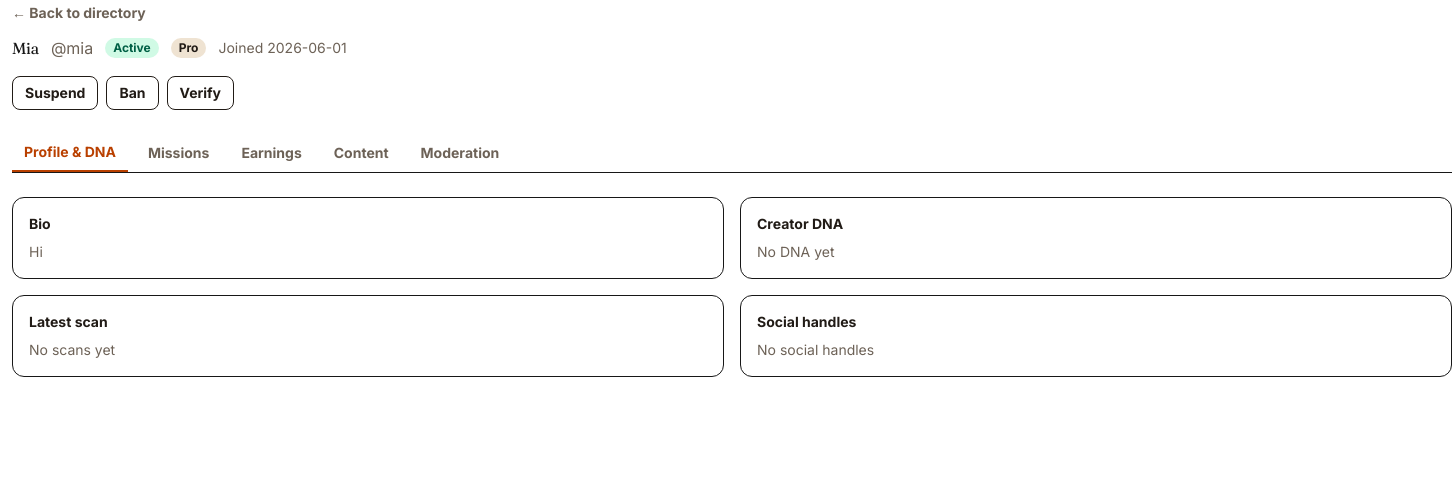
Test: CreatorDetailView › surfaces an action failure instead of refreshing
The image size is (1452, 494).
Click the button "Verify" at (200, 93), box [166,76,234,110]
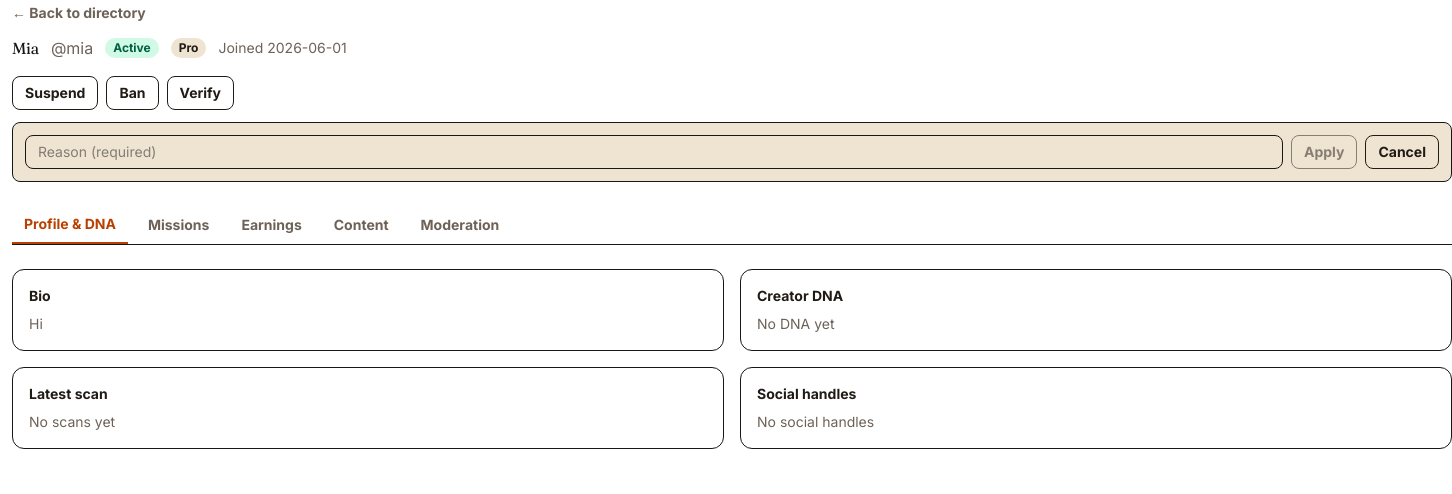
Type "trust" into the field with placeholder "Reason (required)" at (654, 152), box [25,135,1283,169]
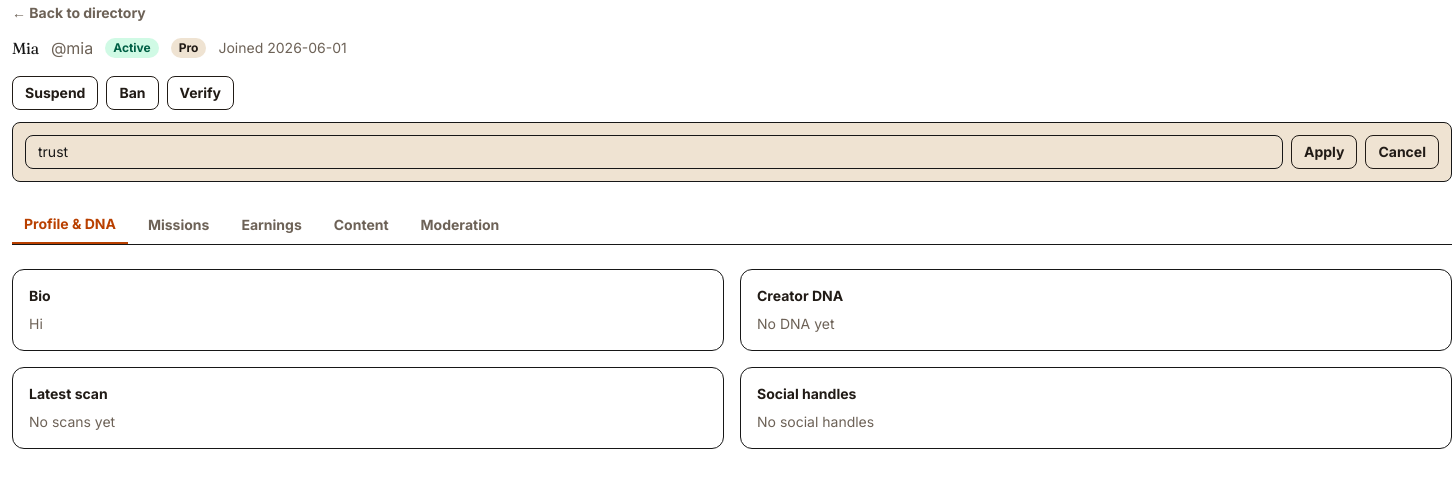
Click the button "Apply" at (1324, 152), box [1291,135,1358,169]
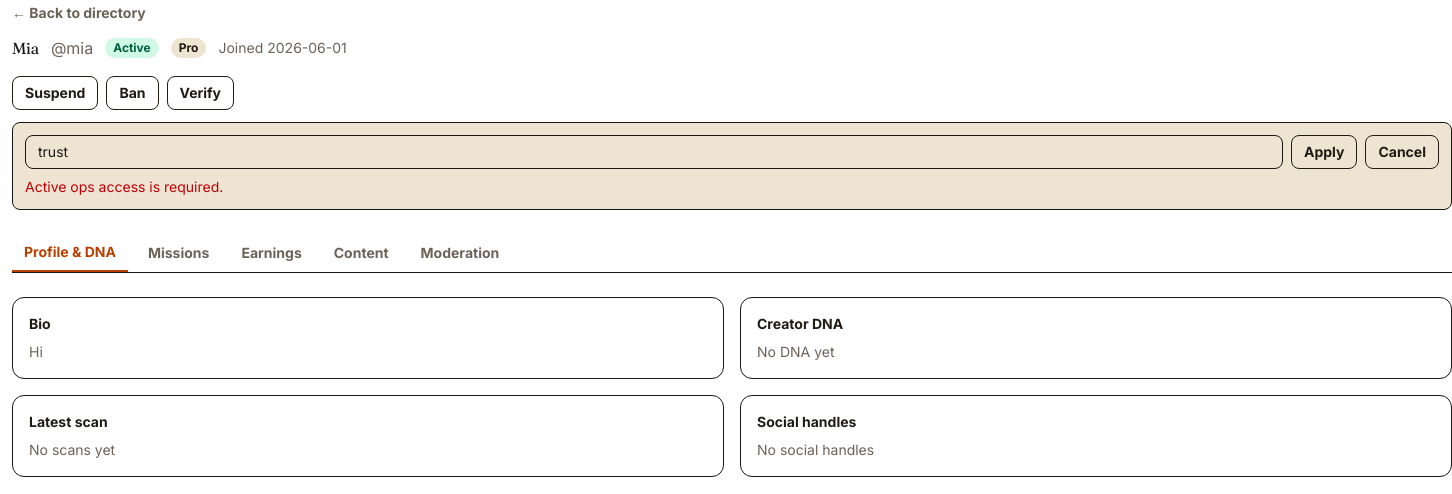
Expected: the text "Active ops access is required." is shown, [25,178,223,195]
